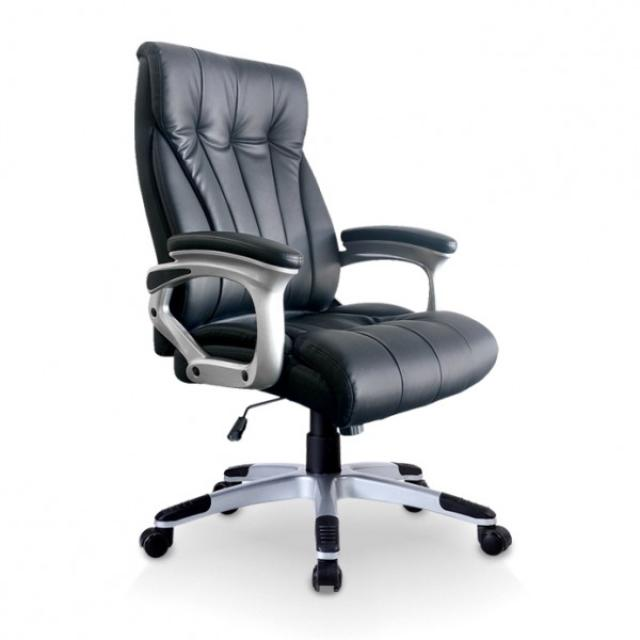Chair: (86, 36, 548, 603)
